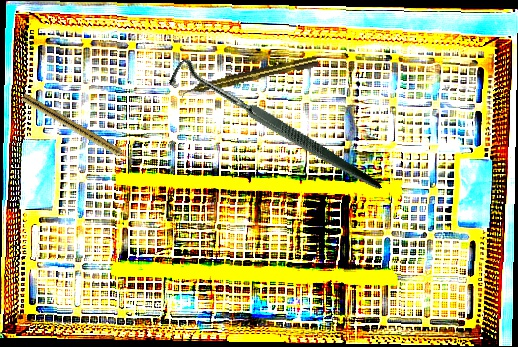Handpiece: (19, 92, 136, 167), (179, 54, 320, 99)
Hook Surgical: (163, 6, 382, 254)
